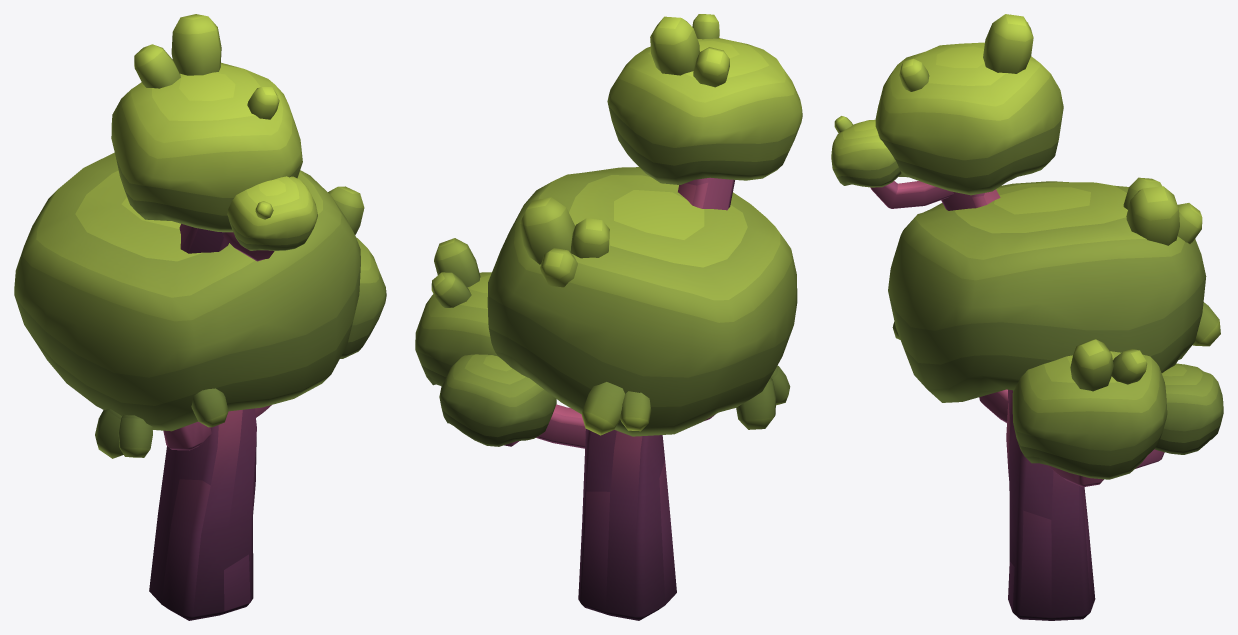
The model's file is grassland_tree_col1_2.fbx.
The picture shows the model from 3 angles, left to right: view 1: azimuth 30°, elevation 25°; view 2: azimuth 150°, elevation 25°; view 3: azimuth 270°, elevation 25°; orthographic projection. The views are drawn at different scales.
Parts seen in each view (by area): view 1: grassland_tree_col1_2; view 2: grassland_tree_col1_2; view 3: grassland_tree_col1_2.
Part boxes in pixels (x1=…): grassland_tree_col1_2: x1=14, y1=14, x2=386, y2=620; grassland_tree_col1_2: x1=415, y1=14, x2=802, y2=620; grassland_tree_col1_2: x1=831, y1=14, x2=1223, y2=620.
Bounding box in the file's own units: 701 × 1182 × 729.
1 material, 1 textured.
